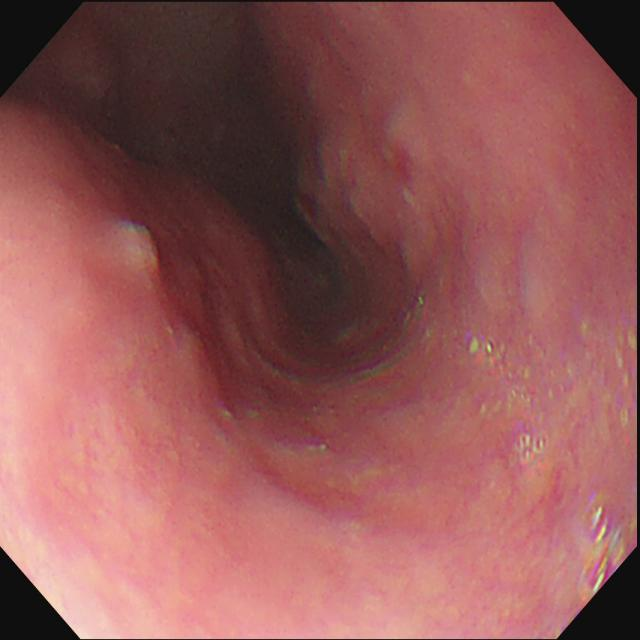A: (301, 99, 551, 320)
E: (202, 136, 374, 339)
J: (113, 209, 168, 294)
T: (463, 329, 558, 465), (577, 491, 629, 592)
